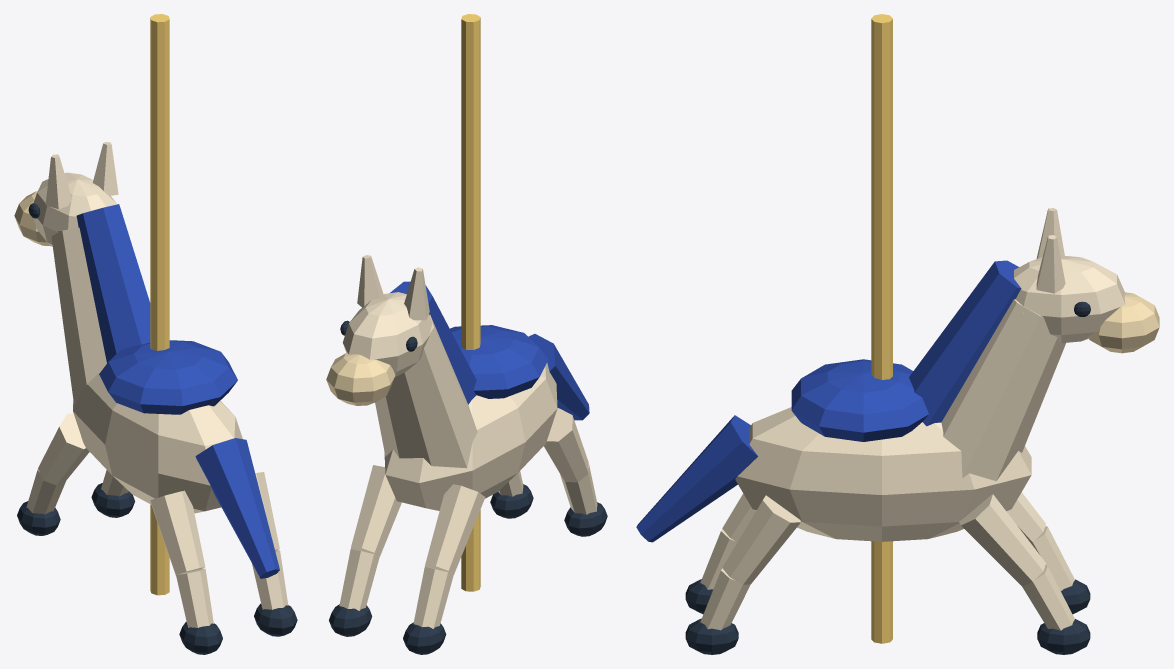
The model's file is horse_blue.glb.
3 renders of one model, left to right at view 1: azimuth 30°, elevation 25°; view 2: azimuth 150°, elevation 25°; view 3: azimuth 270°, elevation 25°, orthographic. The views are drawn at different scales.
Parts seen in each view (by area): view 1: horse_blue; view 2: horse_blue; view 3: horse_blue.
Part boxes in pixels (bbox=[...]): horse_blue: bbox=[14, 14, 297, 654]; horse_blue: bbox=[326, 14, 607, 654]; horse_blue: bbox=[636, 14, 1159, 654].
Bounding box in the file's own units: 0.65 × 2.94 × 2.25.
